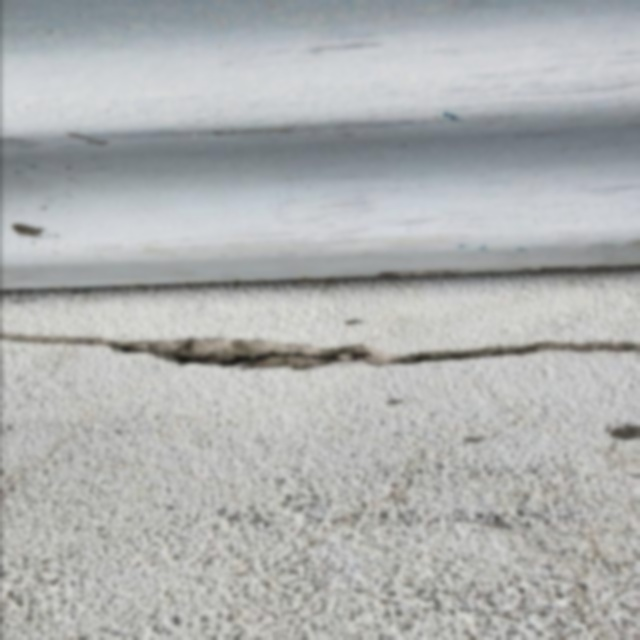SurfaceCrack: (1, 237, 639, 418)
